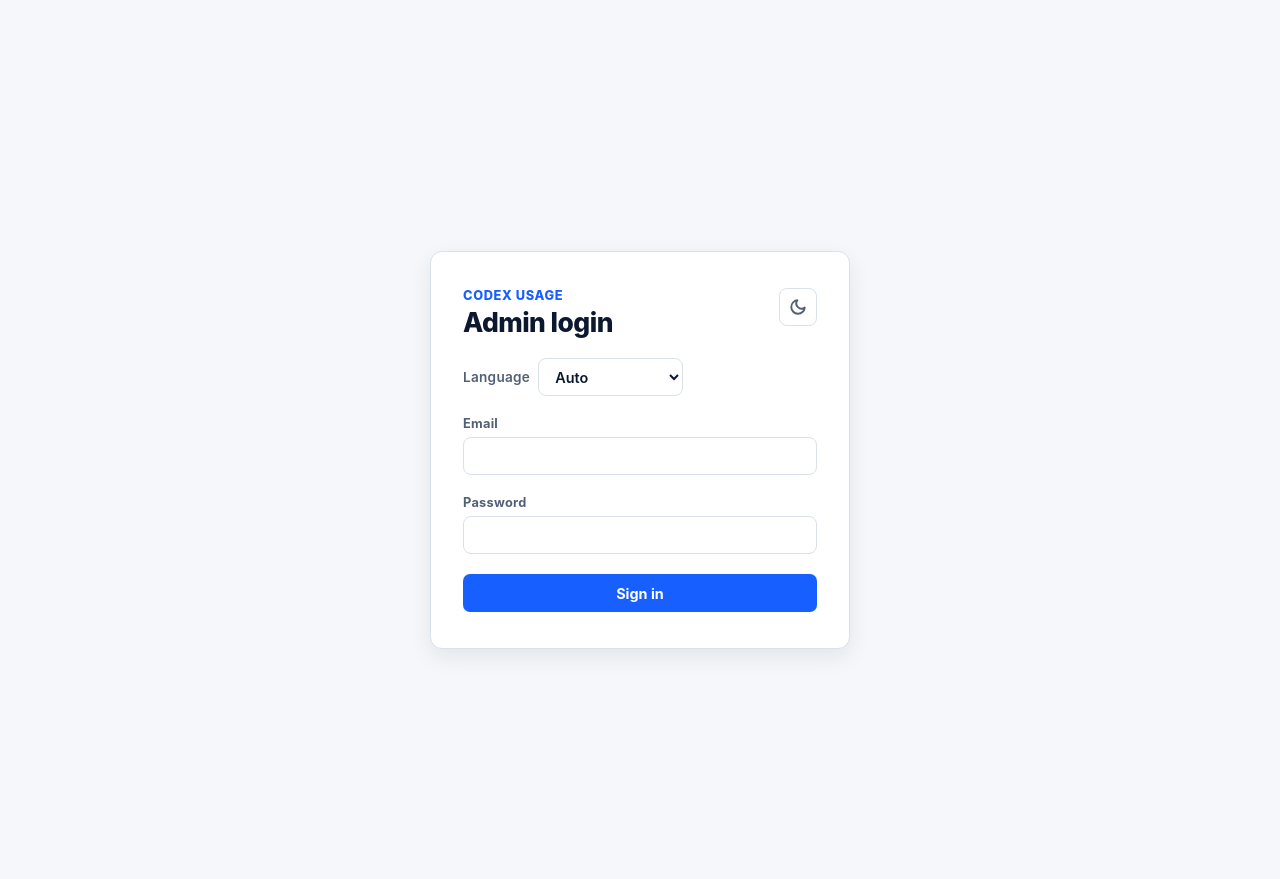
Test: admin dashboard rendering › renders metric totals with rolling digit columns
This screenshot has width=1280, height=879.
Expected: the heading "Admin login" is shown, [463,307,613,338]
Type "admin@example.com" into the field labelled "Email" at (640, 456), box [463,437,817,475]
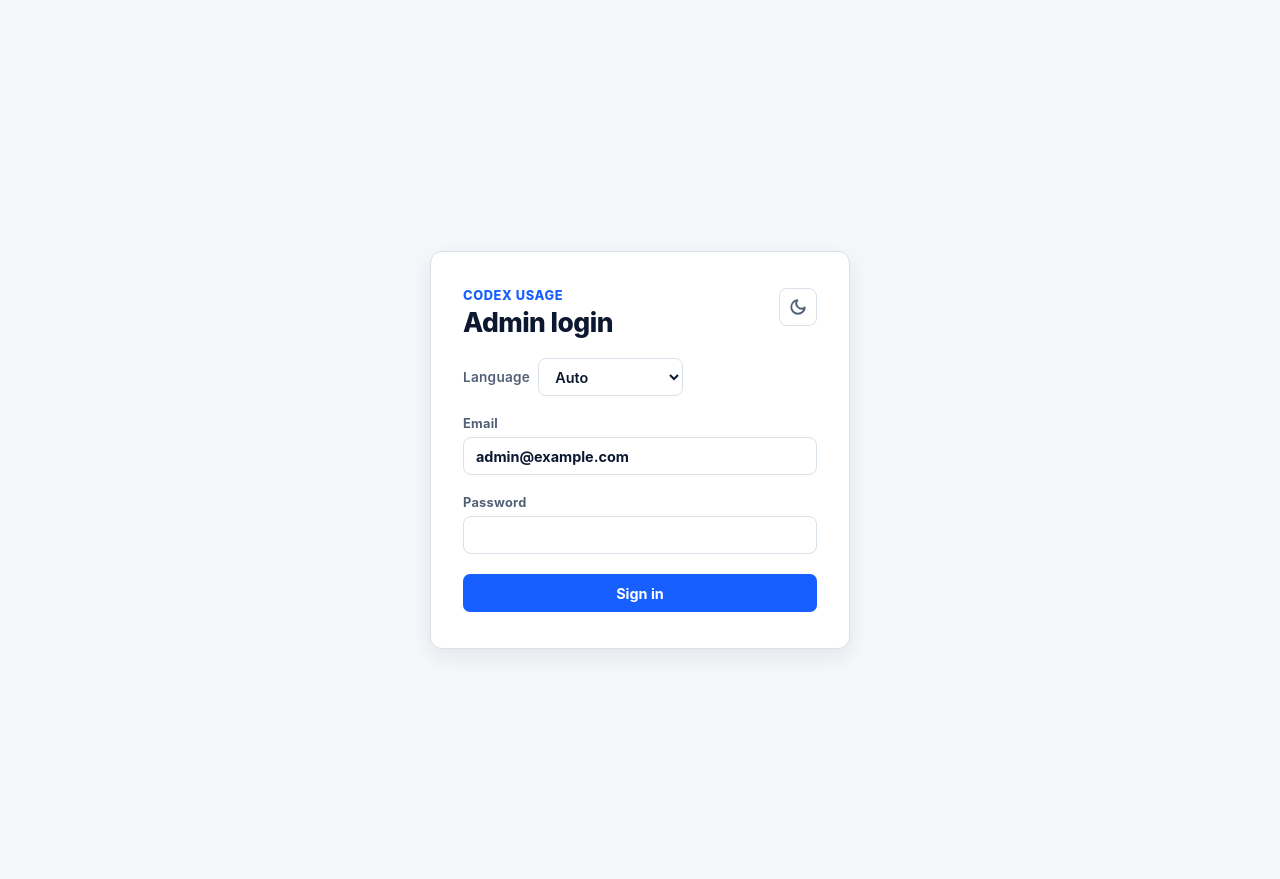
Type "secret" into the password field labelled "Password" at (640, 535), box [463,516,817,554]
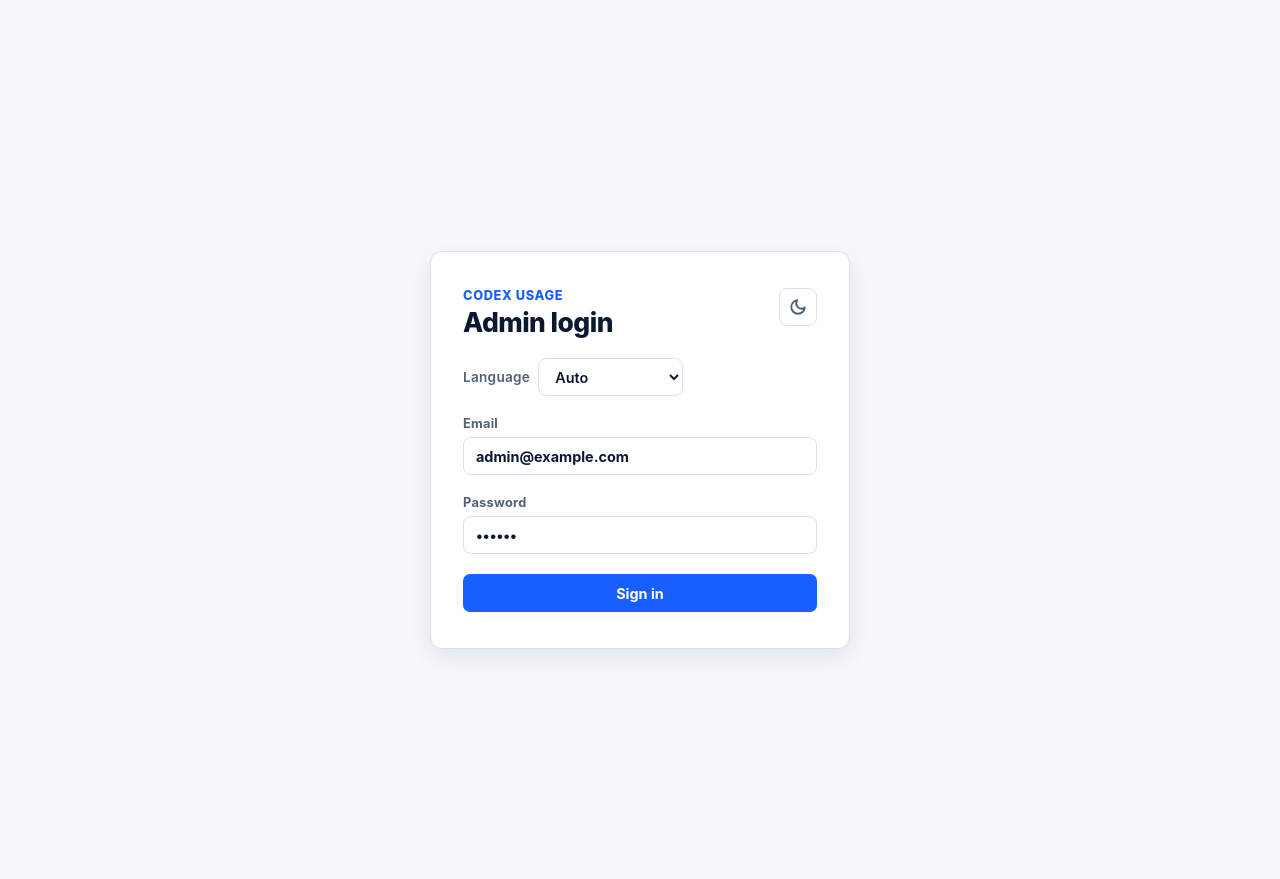
Click the button "Sign in" at (640, 593), box [463,574,817,612]
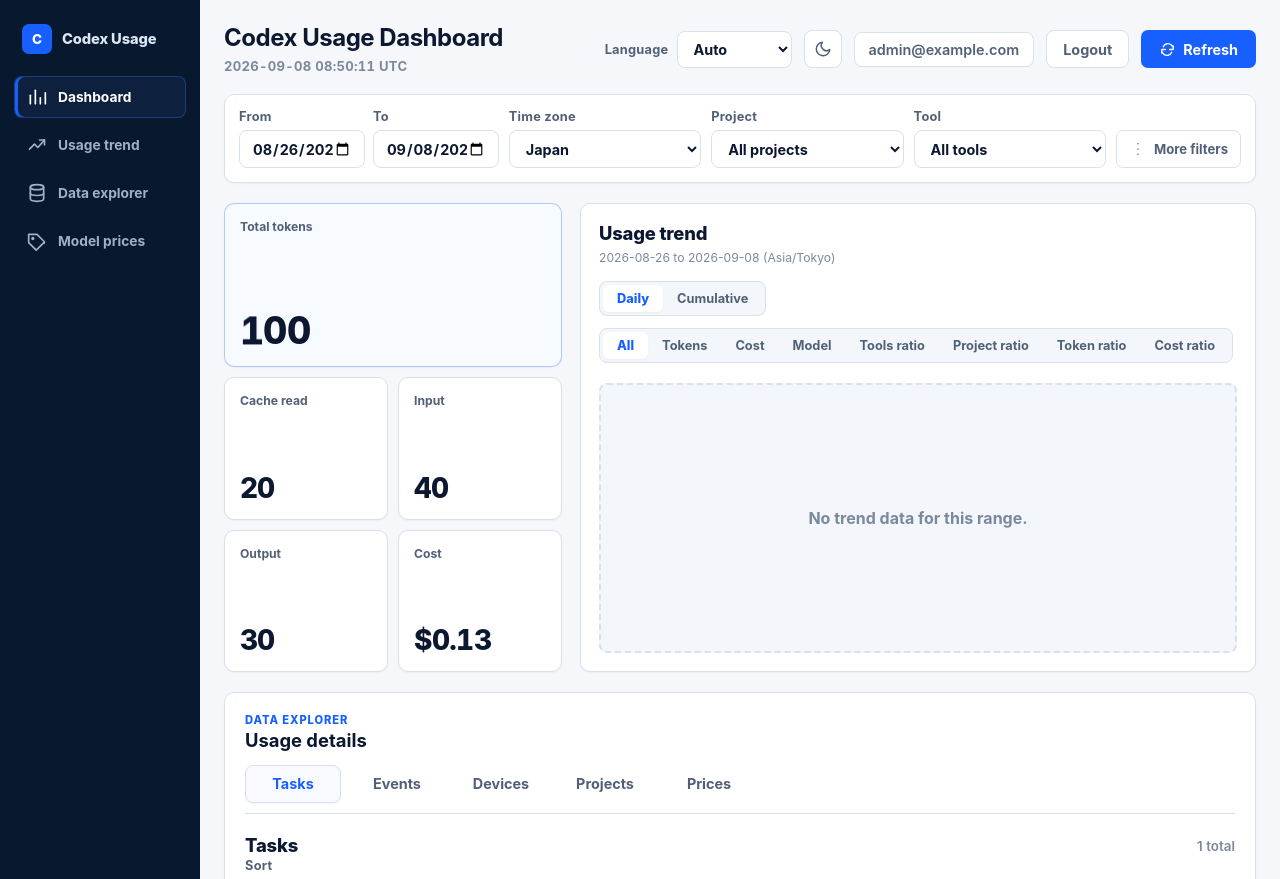
Result: the heading "Codex Usage Dashboard" is shown at [224,24,503,53]
Result: the 1st element with class "metric-digit-window" is shown at [240,312,263,350]
